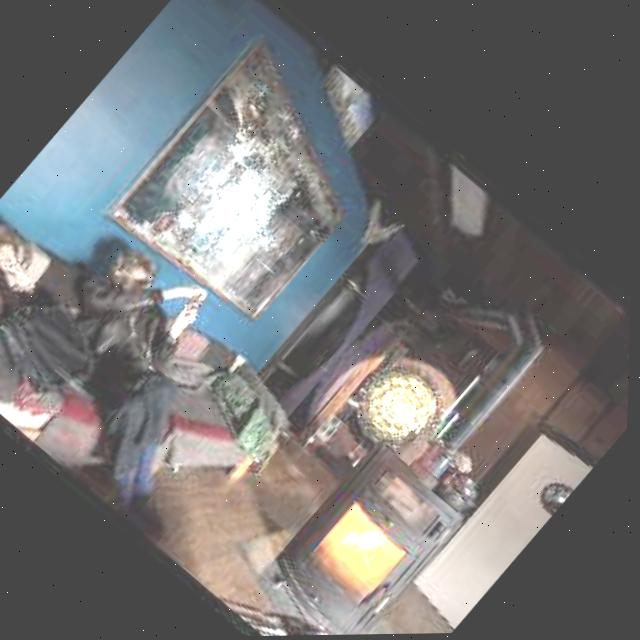Fire: (323, 505, 408, 587)
